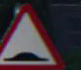Speed Breaker ahead: (4, 4, 65, 69)
